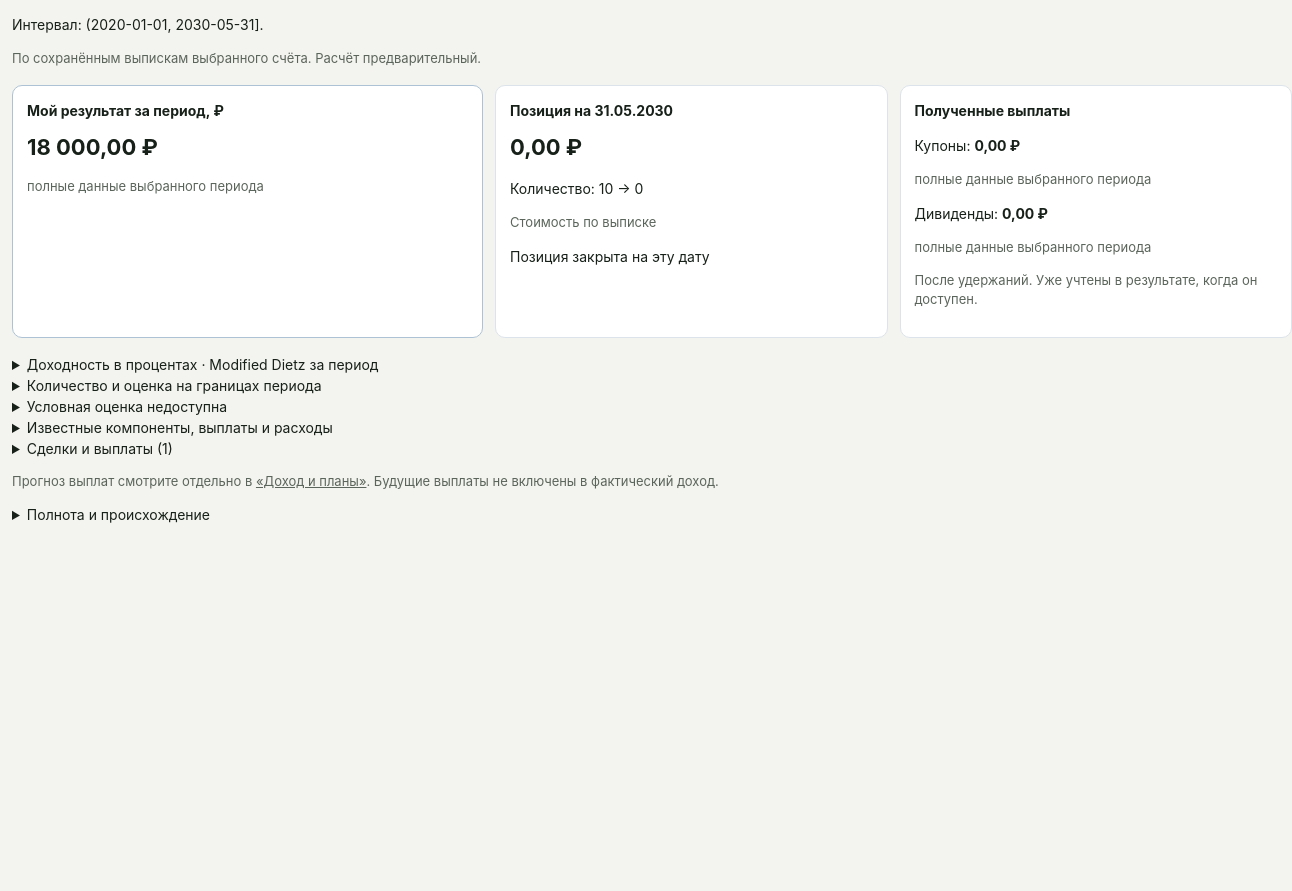
Test case: source zero-origin flag never asserts lifetime ownership or trims a late first purchase
What coordinates should you click on to do the following:
click the heading "Полнота и происхождение"
I would click on:
 (118, 514)
Its box is [27, 506, 210, 523].
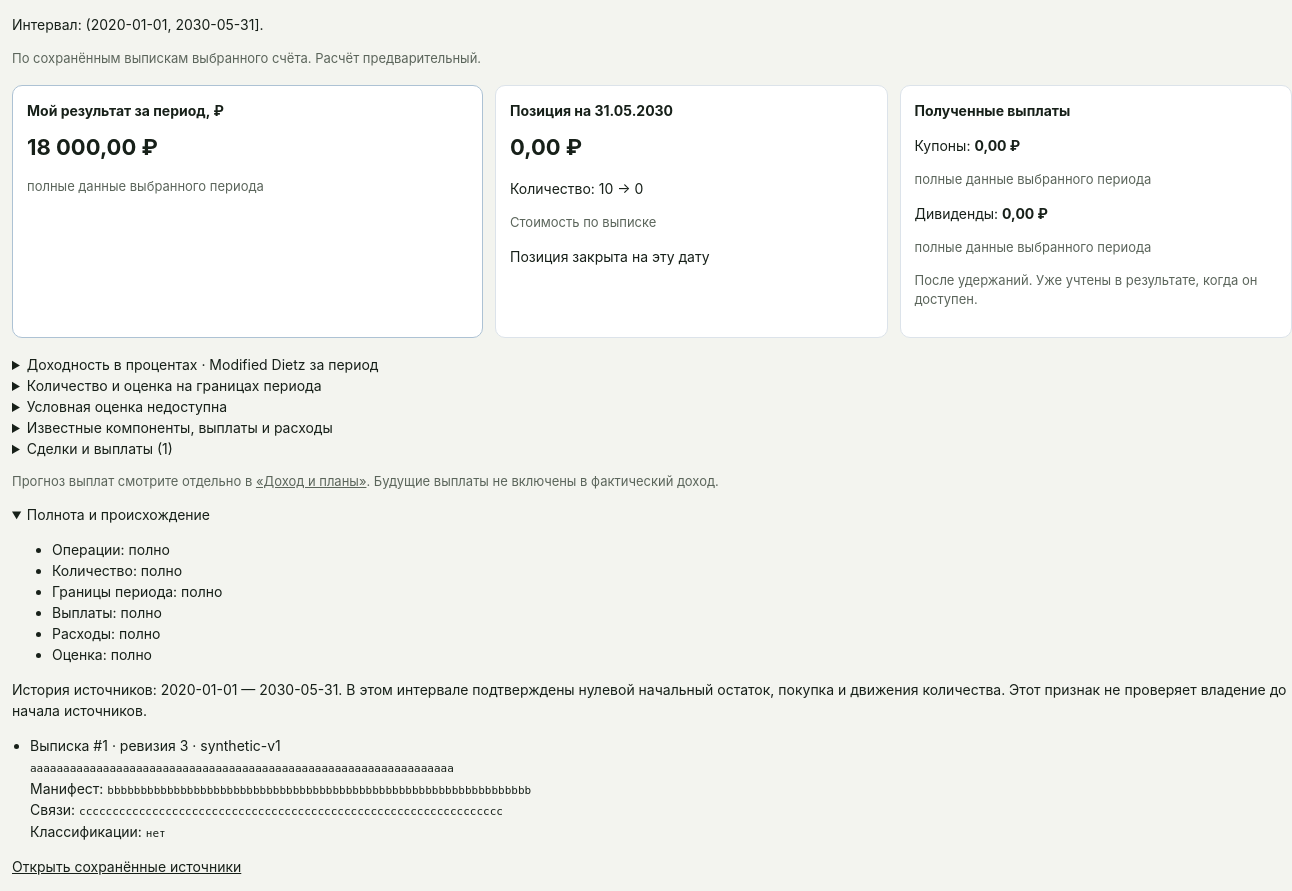
Expected: the text "Этот признак не проверяет владение до начала источников" is shown, [12, 681, 1286, 719]
What coordinates should you click on to do the following:
click the heading "Доходность в процентах · Modified Dietz за период"
I would click on:
 (203, 364)
Its box is [27, 356, 378, 372].
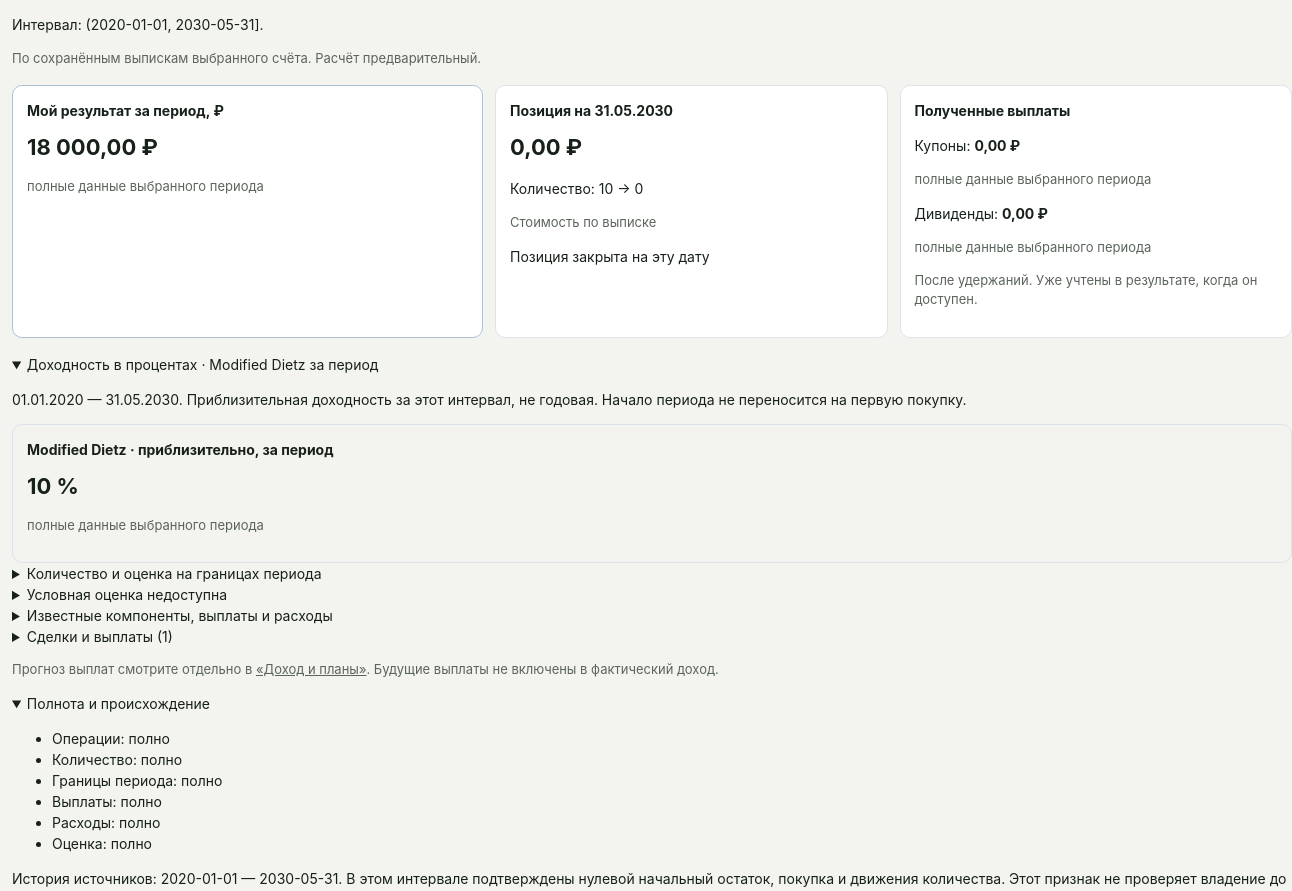
Expected: the text "01.01.2020 — 31.05.2030" is shown, [12, 390, 966, 408]
